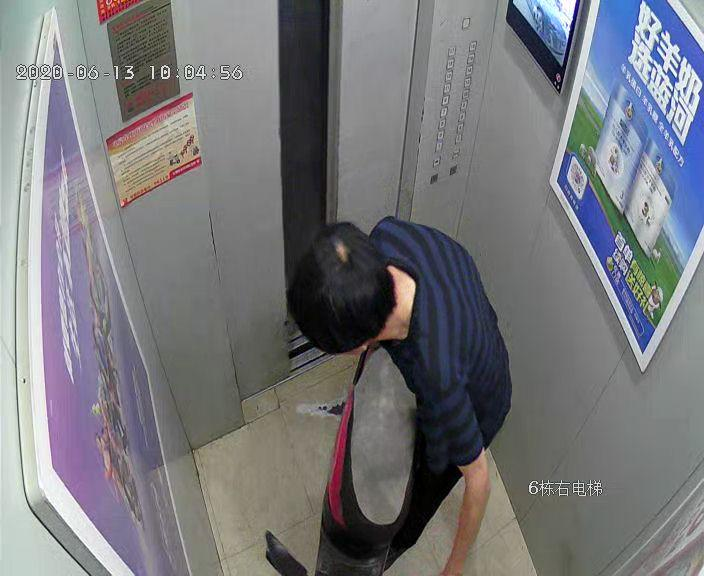Electric-bicycle: (263, 344, 425, 573)
